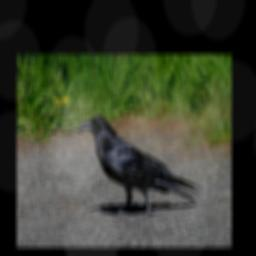Crow: (76, 114, 204, 219)
